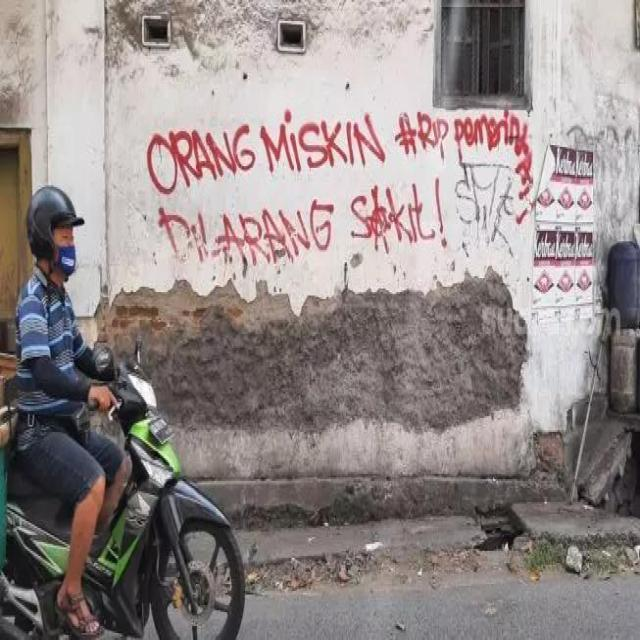nonspitting: (148, 110, 533, 270)
